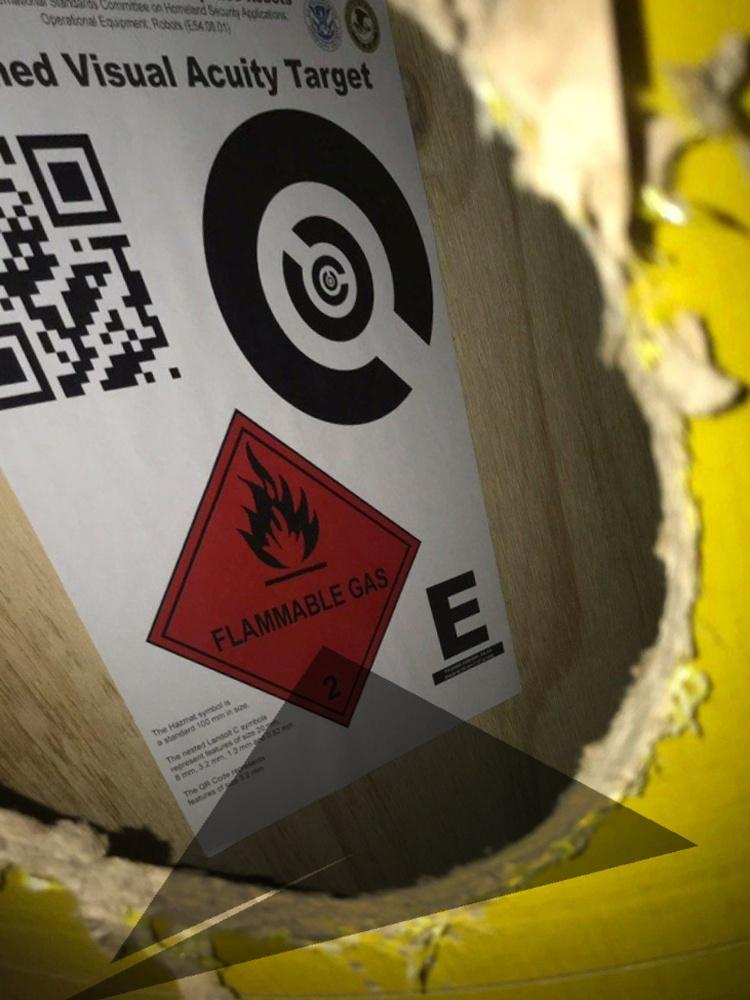flammable: (102, 387, 429, 733)
